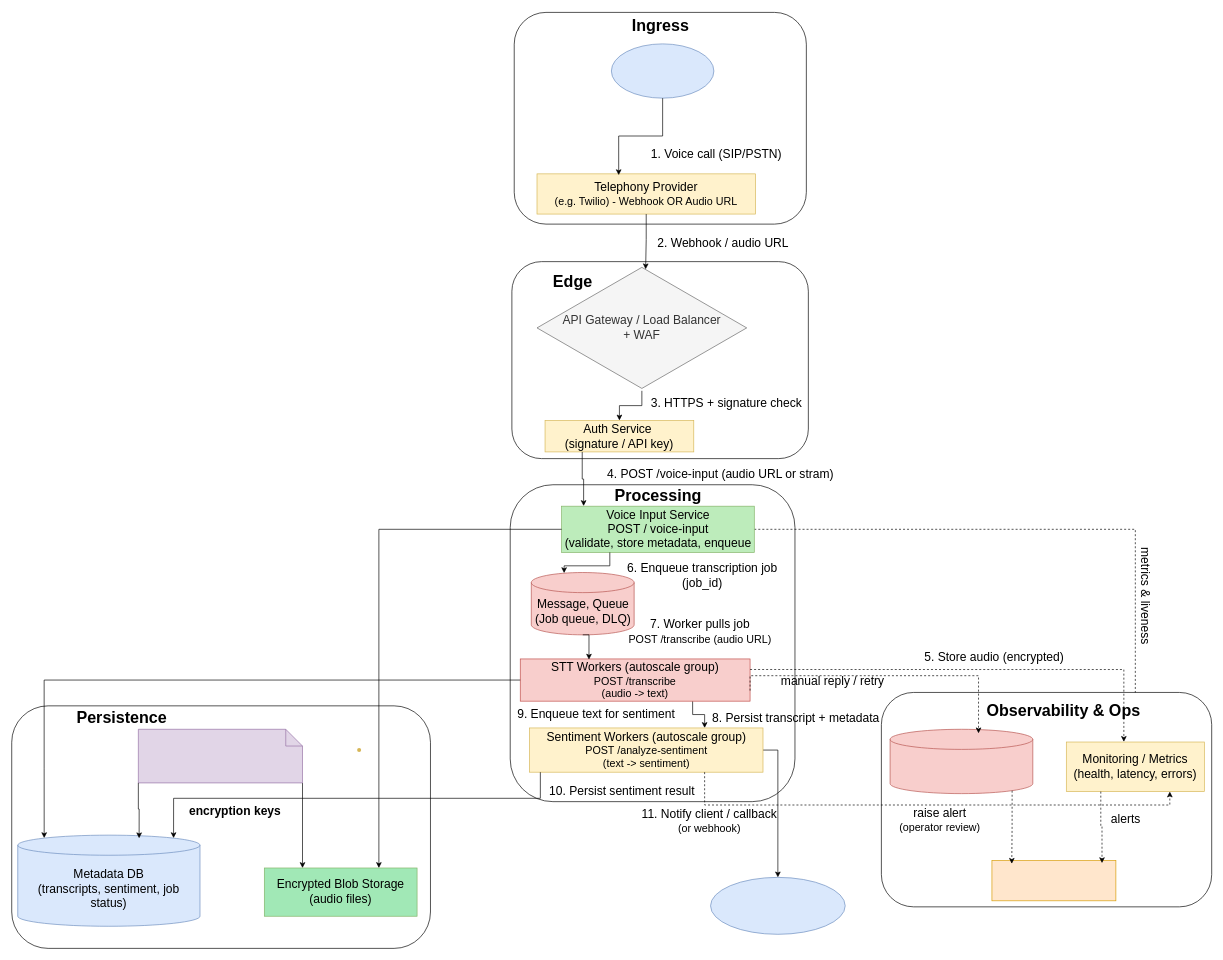
Some shapes in this 1223 by 960 pixel diagram are drawn without their labels. The shapes that lost their labels are listed below. From the top down, each one's box as (x1, y1, x2, y2) in pixels, then its label:
(611, 43, 714, 98): User (Caller) (SIP / PSTN)
(138, 729, 303, 783): KMS / Key Store (encryption keys)
(889, 729, 1033, 794): Dead Letter Queue (failed jobs)
(991, 860, 1116, 901): Altering / Pager
(710, 877, 845, 934): Client /Dashboard (callbacks, APU poll)
